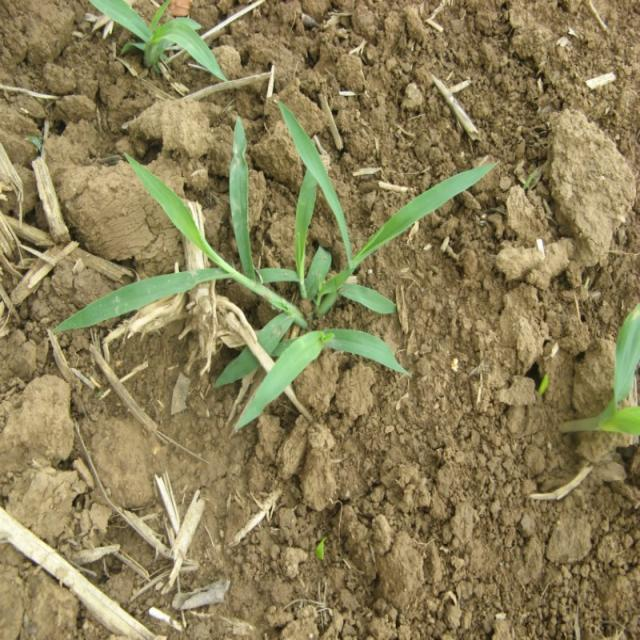bg: (59, 95, 493, 427)
